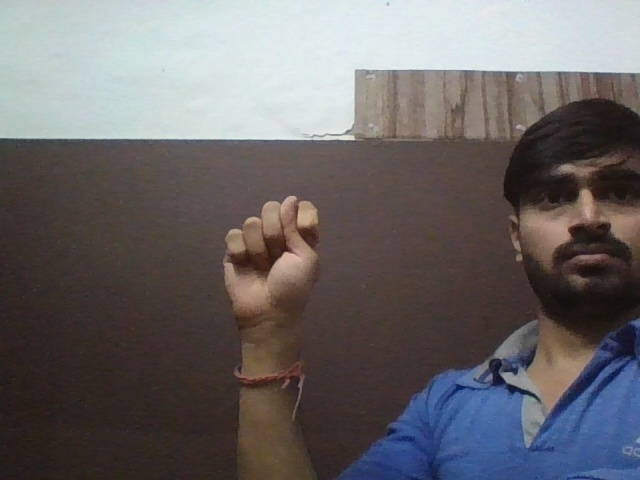T: (212, 190, 330, 331)
